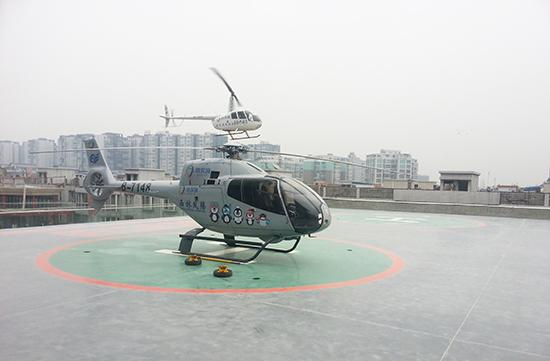airplane: (24, 145, 388, 259), (152, 68, 282, 140)
